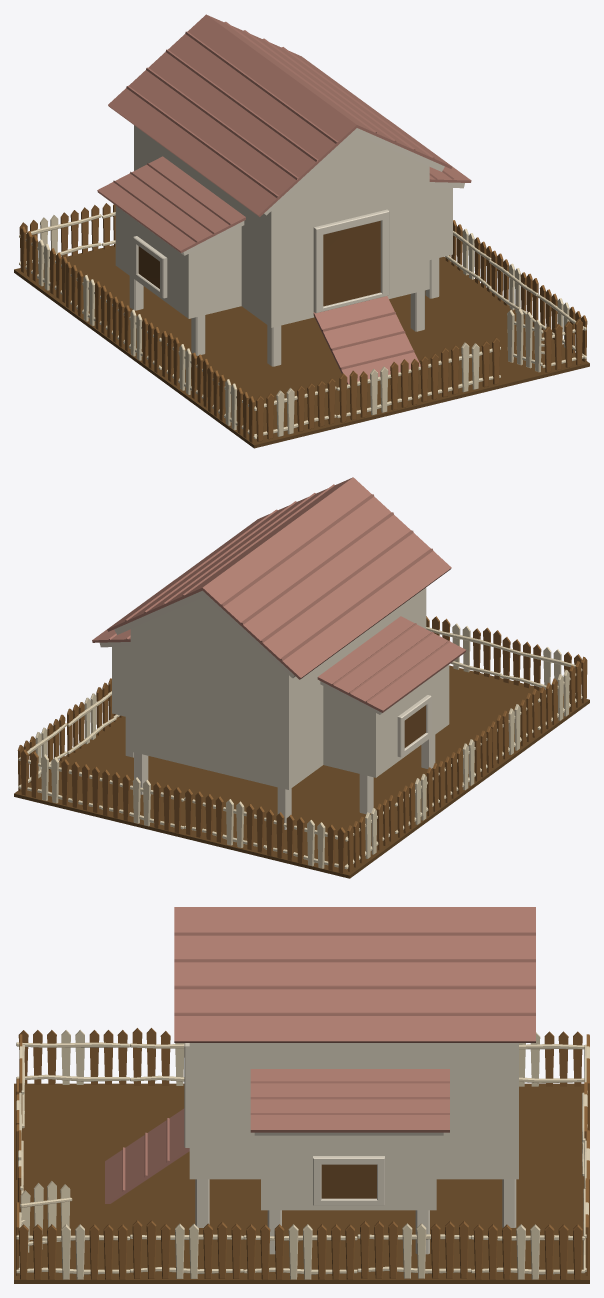
The model's file is coop_b_5694.gltf.
The picture shows the model from 3 angles, top to bottom: view 1: azimuth 30°, elevation 25°; view 2: azimuth 150°, elevation 25°; view 3: azimuth 270°, elevation 25°; orthographic projection. The views are drawn at different scales.
Visible parts, largest first — view 1: Shape057, Box2385, Box2387, Box2384, Box2386, coop_b002; view 2: Shape057, Box2385, Box2387, Box2384, coop_b002, Box2386; view 3: Shape057, Box2387, Box2385, Box2384, coop_b002, Box2386.
Boxes of the visible parts, <box> form: Shape057: <box>97,14,471,384</box>; Box2385: <box>115,125,452,327</box>; Box2387: <box>14,245,589,448</box>; Box2384: <box>19,203,587,443</box>; Box2386: <box>129,128,464,366</box>; coop_b002: <box>19,212,586,439</box>; Shape057: <box>92,477,466,712</box>; Box2385: <box>112,587,449,789</box>; Box2387: <box>14,665,589,878</box>; Box2384: <box>17,616,587,873</box>; coop_b002: <box>18,623,582,869</box>; Box2386: <box>99,590,435,829</box>; Shape057: <box>105,907,535,1203</box>; Box2387: <box>14,1083,589,1283</box>; Box2385: <box>189,1043,518,1210</box>; Box2384: <box>16,1028,589,1279</box>; coop_b002: <box>16,1030,589,1279</box>; Box2386: <box>184,1043,516,1254</box>.
Bounding box in the file's own units: 4.24 × 2.82 × 5.25.
1 material, 1 textured.
